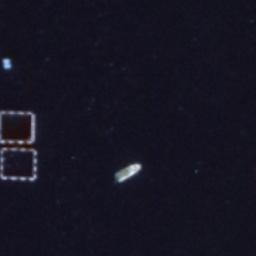square_solid: (1, 143, 40, 185), (1, 107, 38, 148)
